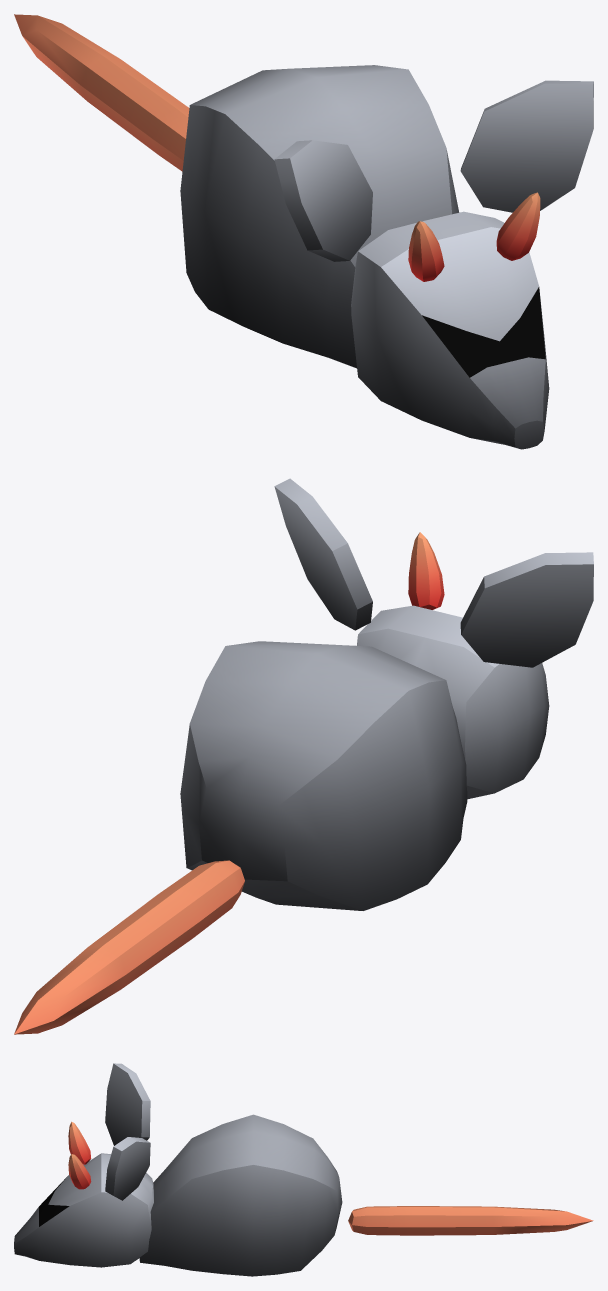
File: Mouse.fbx
The picture shows the model from 3 angles, top to bottom: view 1: azimuth 30°, elevation 25°; view 2: azimuth 150°, elevation 25°; view 3: azimuth 270°, elevation 25°; orthographic projection. The views are drawn at different scales.
Visible parts, largest first — view 1: Mouse; view 2: Mouse; view 3: Mouse.
Part boxes in pixels (x1,y1,x2,y2): Mouse: (14,14,593,449); Mouse: (14,478,593,1034); Mouse: (14,1063,593,1276).
Size of the model in its own units: 2.34 by 1.89 by 6.55.
